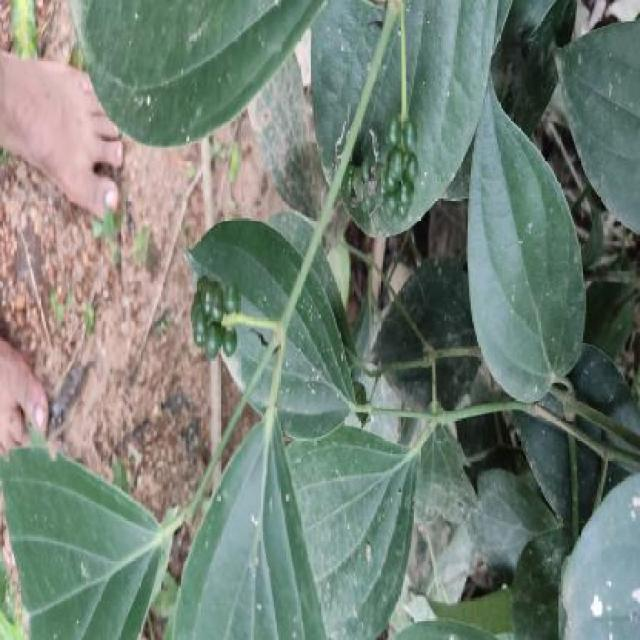UNRIPE: (358, 114, 417, 228), (191, 276, 237, 359)
